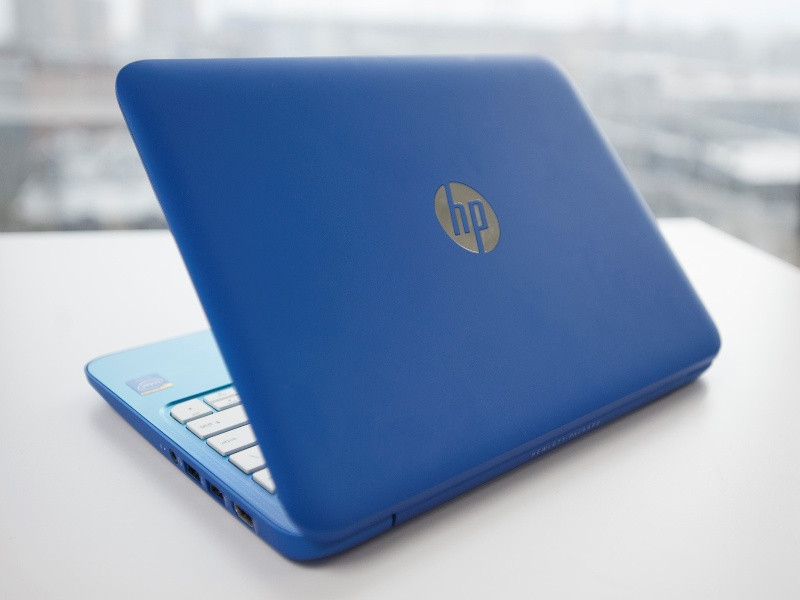hp: (439, 178, 499, 255)
